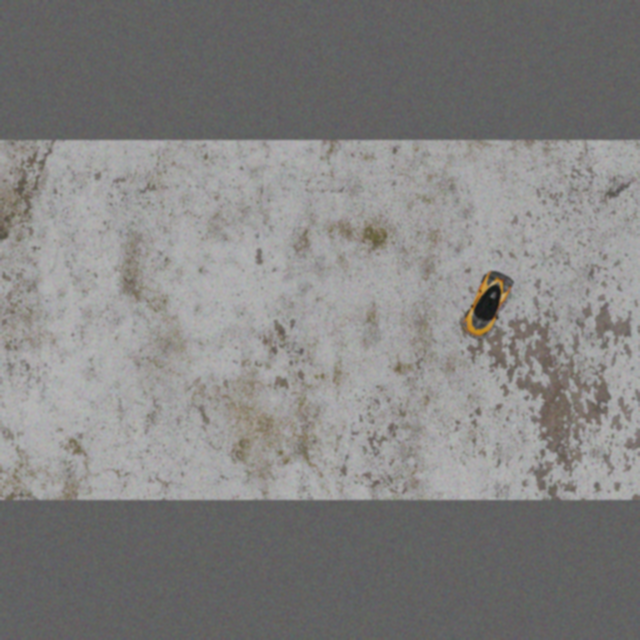car: (458, 266, 518, 340)
